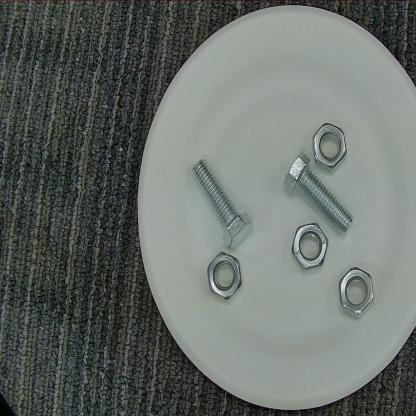FOD: (280, 152, 357, 240), (187, 156, 258, 250), (204, 249, 247, 312), (289, 217, 332, 277), (334, 263, 379, 320), (310, 118, 348, 175)
